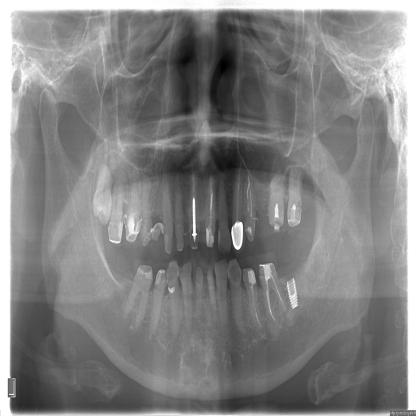Bicon: (285, 273, 301, 315)
